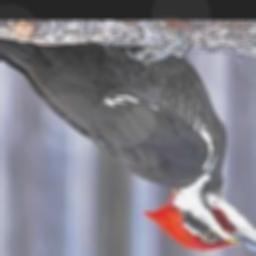Woodpecker: (0, 32, 256, 256)
